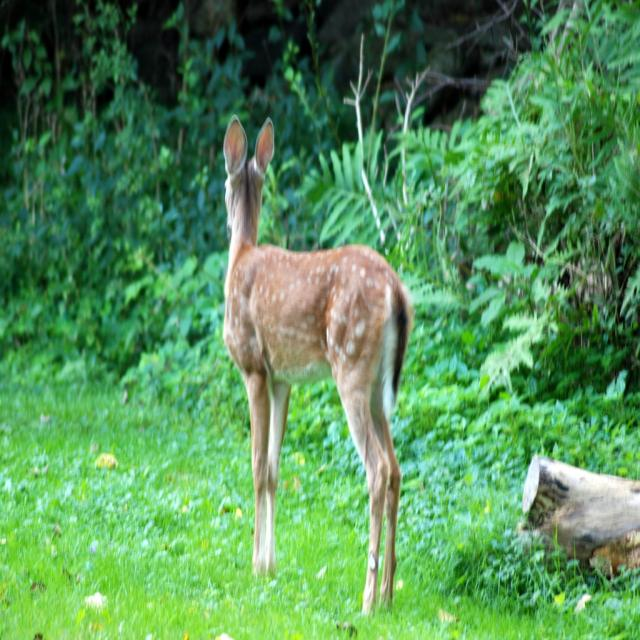Deer: (222, 114, 412, 618)
